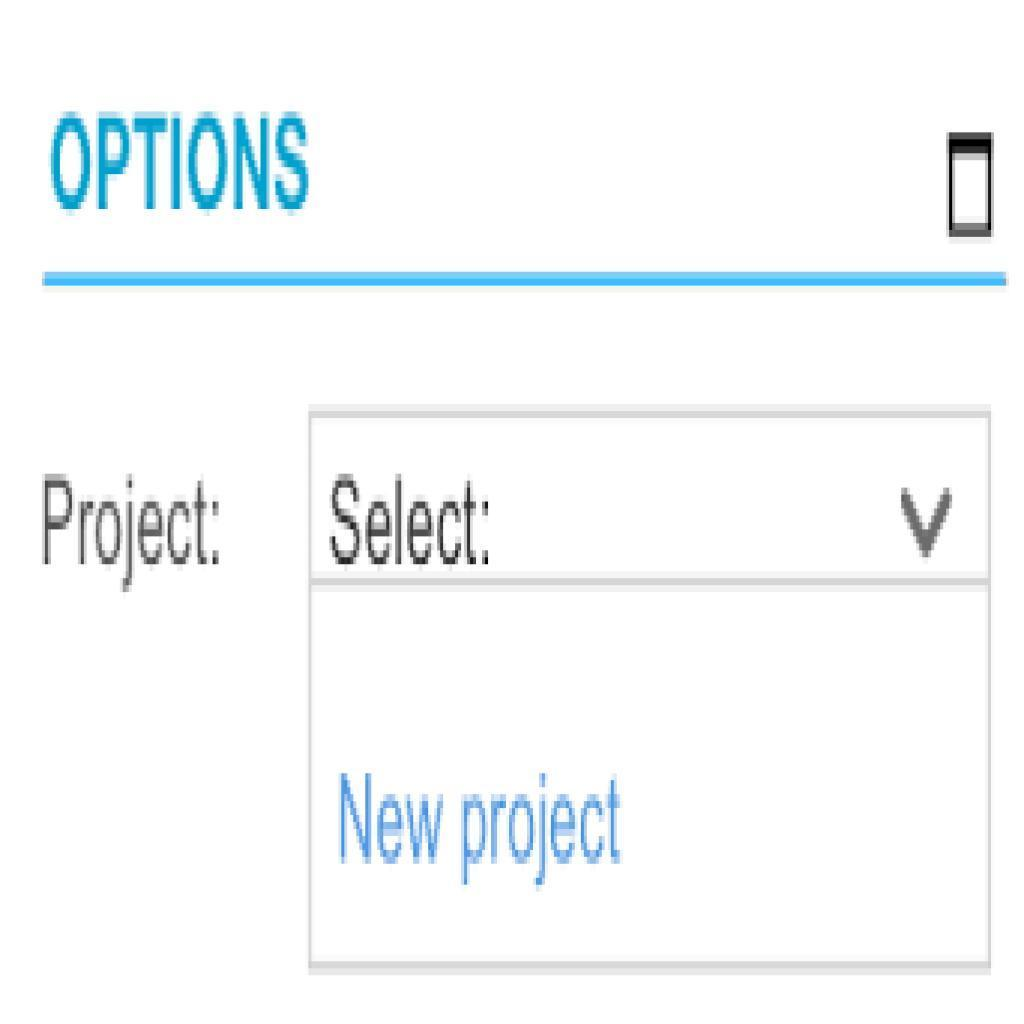checkbox: (954, 138, 993, 225)
dropdown: (309, 413, 989, 582)
label: (35, 466, 231, 581)
